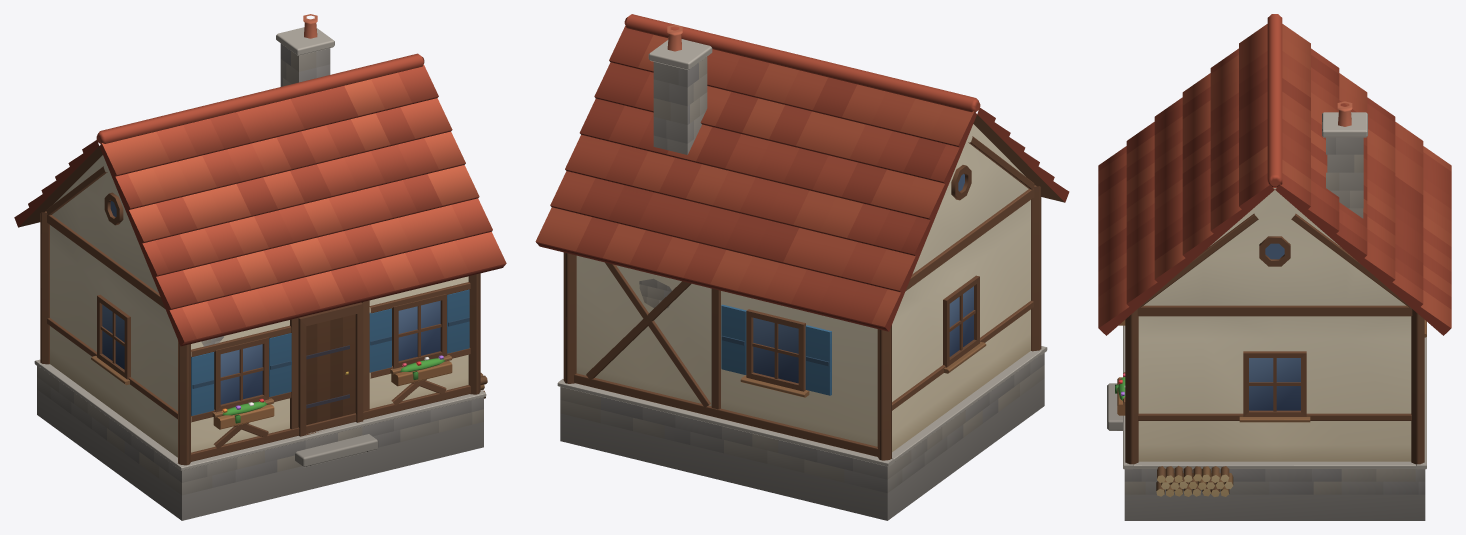
File: house_a.glb
The picture shows the model from 3 angles, left to right: view 1: azimuth 30°, elevation 25°; view 2: azimuth 150°, elevation 25°; view 3: azimuth 270°, elevation 25°; orthographic projection. The views are drawn at different scales.
Visible parts, largest first — view 1: house_a; view 2: house_a; view 3: house_a.
Part boxes in pixels (x1,y1,x2,y2): house_a: (14,14,506,520); house_a: (535,14,1069,520); house_a: (1098,14,1451,520).
Bounding box in the file's own units: 6.55 × 6.93 × 5.8.
